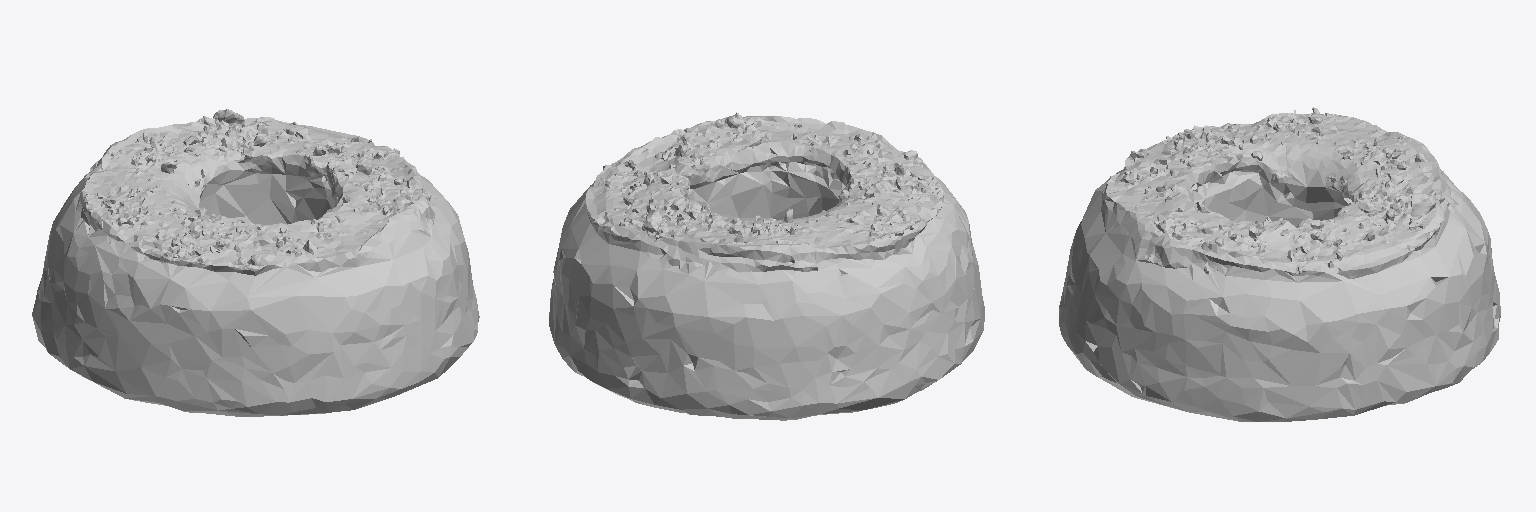
File: carrot_cake.obj
The picture shows the model from 3 angles: view 1: azimuth 30°, elevation 25°; view 2: azimuth 150°, elevation 25°; view 3: azimuth 270°, elevation 25°; orthographic projection.
Visible parts, largest first — view 1: carrot_cake; view 2: carrot_cake; view 3: carrot_cake.
Part boxes in pixels (x1,y1,x2,y2): carrot_cake: (32, 109, 479, 416); carrot_cake: (549, 112, 984, 420); carrot_cake: (1059, 107, 1500, 421).
Size of the model in its own units: 0.2254 by 0.0976 by 0.2254.